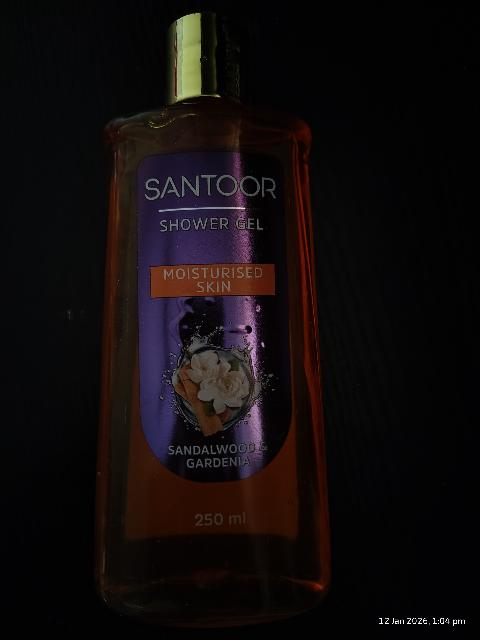santoor bodywash: (59, 14, 369, 592)
